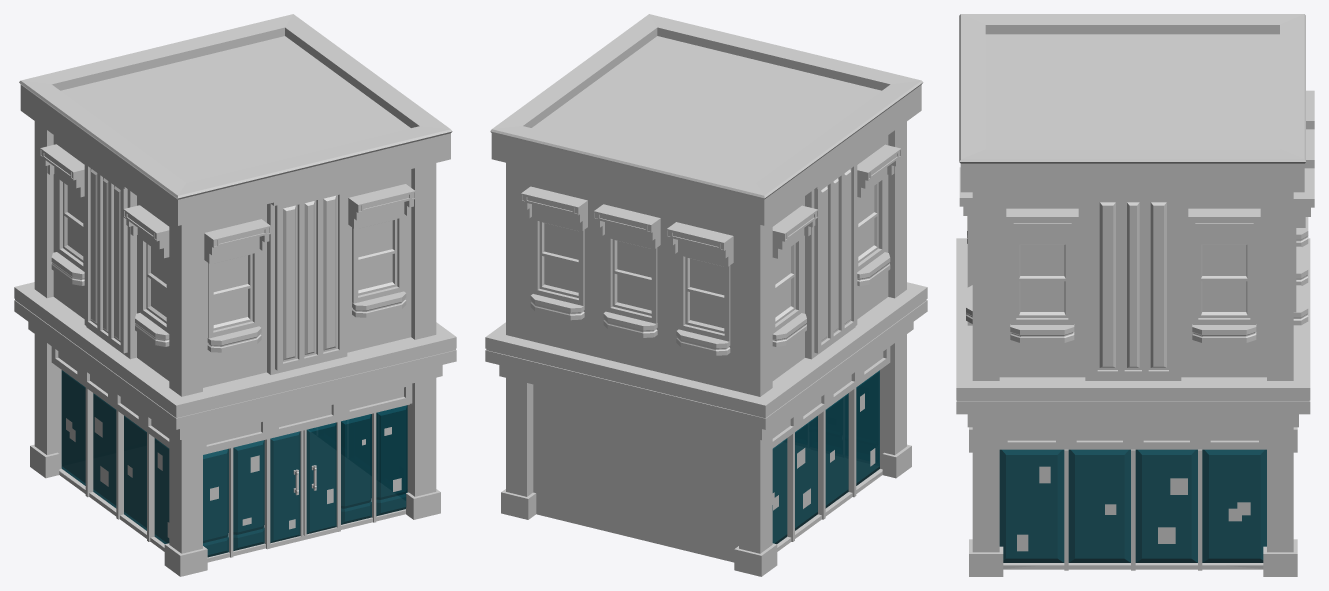
File: shop_05_medium.fbx
3 renders of one model, left to right at view 1: azimuth 30°, elevation 25°; view 2: azimuth 150°, elevation 25°; view 3: azimuth 270°, elevation 25°, orthographic. The views are drawn at different scales.
Parts seen in each view (by area): view 1: shop_05_medium, shop_05_glass_medium; view 2: shop_05_medium, shop_05_glass_medium; view 3: shop_05_medium, shop_05_glass_medium.
Part boxes in pixels (left/top/right/bottom): shop_05_medium: left=14, top=14, right=456, bottom=576; shop_05_glass_medium: left=61, top=370, right=407, bottom=557; shop_05_medium: left=485, top=14, right=927, bottom=576; shop_05_glass_medium: left=772, top=370, right=879, bottom=544; shop_05_medium: left=956, top=14, right=1314, bottom=576; shop_05_glass_medium: left=999, top=449, right=1266, bottom=562.
Size of the model in its own units: 661 by 869 by 670.
